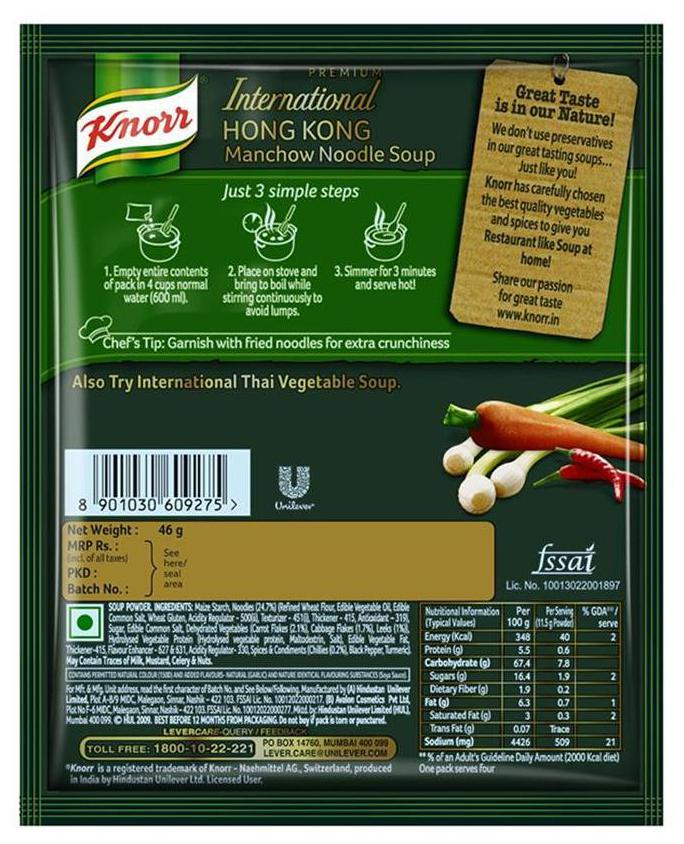fssai: (530, 543, 598, 576)
